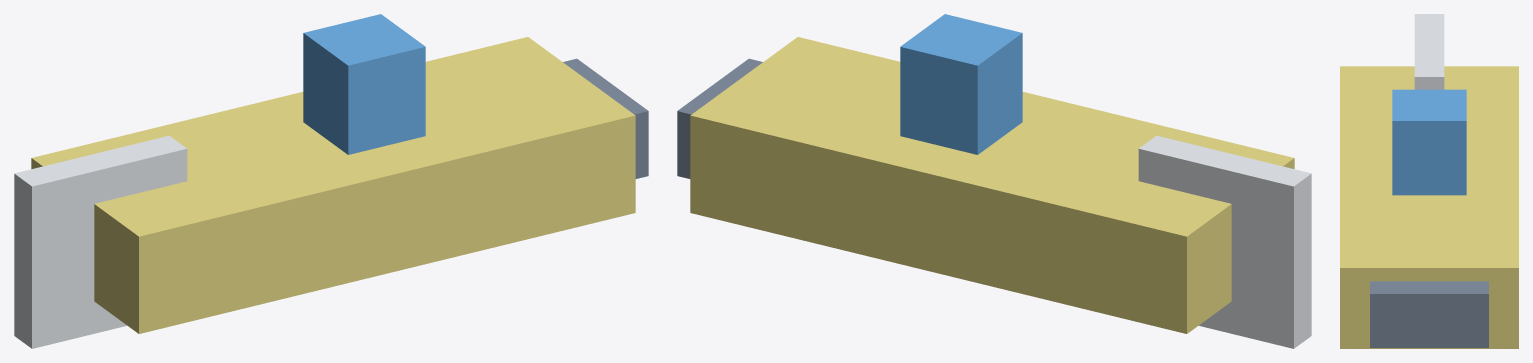
The model's file is rectangular_waveguide_modes.glb.
3 renders of one model, left to right at view 1: azimuth 30°, elevation 25°; view 2: azimuth 150°, elevation 25°; view 3: azimuth 270°, elevation 25°, orthographic. The views are drawn at different scales.
Parts seen in each view (by area): view 1: WR90RectangularWaveguideTube, PrecisionChokeFlangeCoupler, SlottedLineProbeCarriage, MatchedLoadTerminationWedge; view 2: WR90RectangularWaveguideTube, PrecisionChokeFlangeCoupler, SlottedLineProbeCarriage, MatchedLoadTerminationWedge; view 3: WR90RectangularWaveguideTube, SlottedLineProbeCarriage, MatchedLoadTerminationWedge, PrecisionChokeFlangeCoupler.
Boxes of the visible parts, x1=… form: WR90RectangularWaveguideTube: x1=31, y1=37, x2=635, y2=333; PrecisionChokeFlangeCoupler: x1=14, y1=135, x2=187, y2=348; SlottedLineProbeCarriage: x1=303, y1=14, x2=425, y2=154; MatchedLoadTerminationWedge: x1=563, y1=58, x2=648, y2=178; WR90RectangularWaveguideTube: x1=690, y1=37, x2=1294, y2=333; PrecisionChokeFlangeCoupler: x1=1138, y1=135, x2=1311, y2=348; SlottedLineProbeCarriage: x1=900, y1=14, x2=1022, y2=154; MatchedLoadTerminationWedge: x1=677, y1=58, x2=762, y2=178; WR90RectangularWaveguideTube: x1=1340, y1=66, x2=1518, y2=348; SlottedLineProbeCarriage: x1=1392, y1=89, x2=1466, y2=195; MatchedLoadTerminationWedge: x1=1370, y1=281, x2=1488, y2=347; PrecisionChokeFlangeCoupler: x1=1414, y1=14, x2=1444, y2=89.
Bounding box in the file's own units: 1.9 × 0.675 × 0.6.
